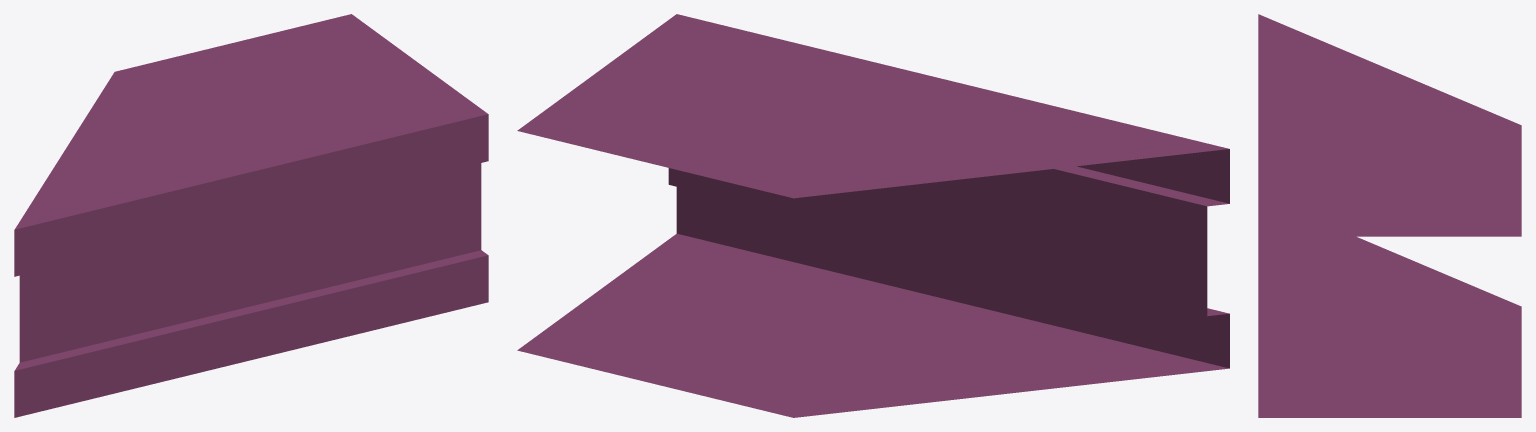
The model's file is HardCurve_90_Mirror.fbx.
3 renders of one model, left to right at view 1: azimuth 30°, elevation 25°; view 2: azimuth 150°, elevation 25°; view 3: azimuth 270°, elevation 25°, orthographic. The views are drawn at different scales.
Visible parts, largest first — view 1: HardCurve_90_Mirror; view 2: HardCurve_90_Mirror; view 3: HardCurve_90_Mirror.
Part boxes in pixels (<box>): HardCurve_90_Mirror: <box>14,14,488,417</box>; HardCurve_90_Mirror: <box>517,14,1229,417</box>; HardCurve_90_Mirror: <box>1258,14,1521,417</box>.
Bounding box in the file's own units: 4 × 1.52 × 2.
